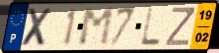1: (63, 7, 78, 48)
7: (110, 6, 138, 48)
L: (138, 6, 162, 47)
M: (78, 7, 116, 48)
X: (19, 7, 55, 48)
Z: (163, 6, 196, 47)
